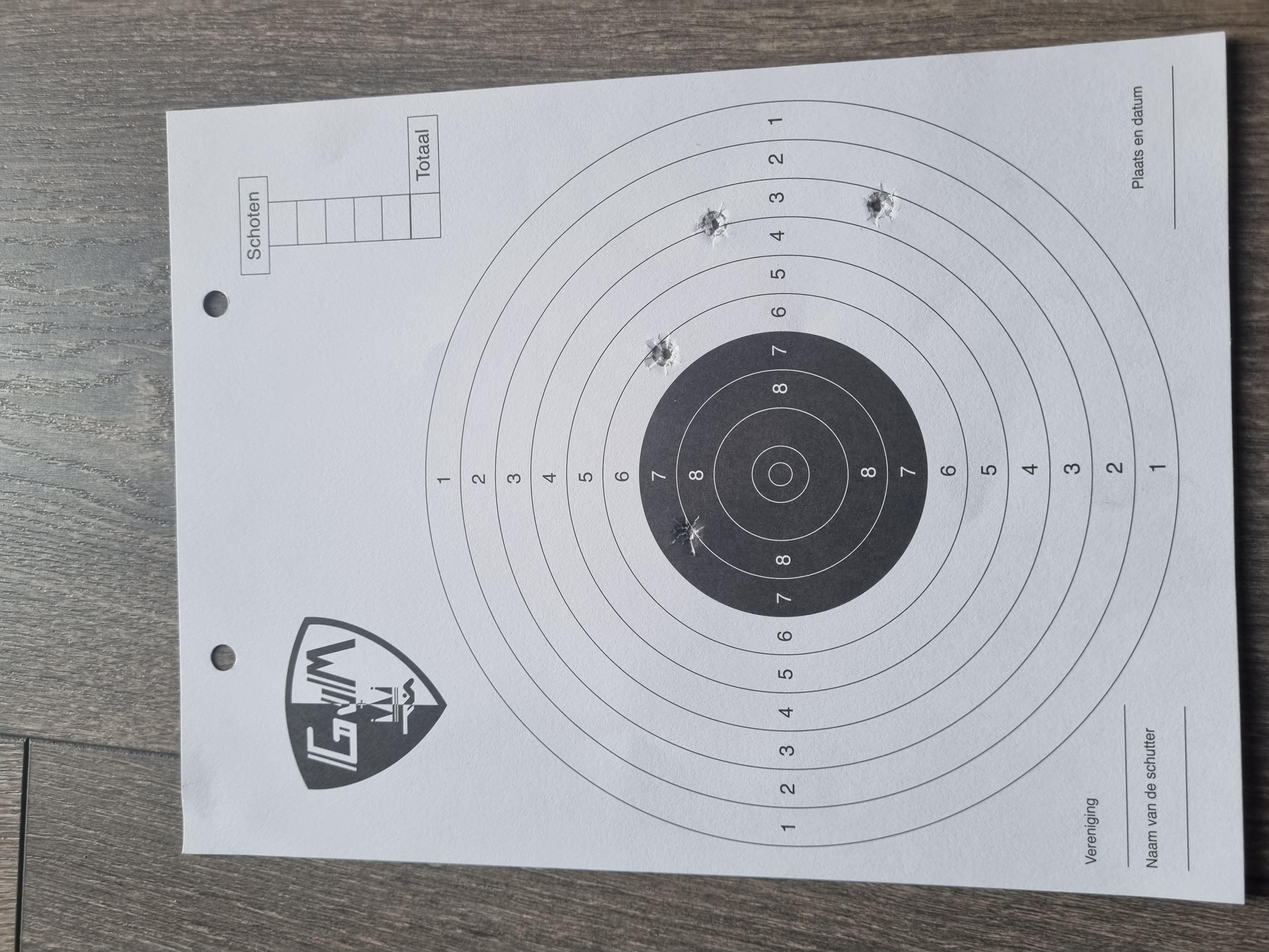hole: (964, 650, 1026, 673), (769, 484, 823, 510), (527, 503, 583, 528), (939, 524, 997, 547)
